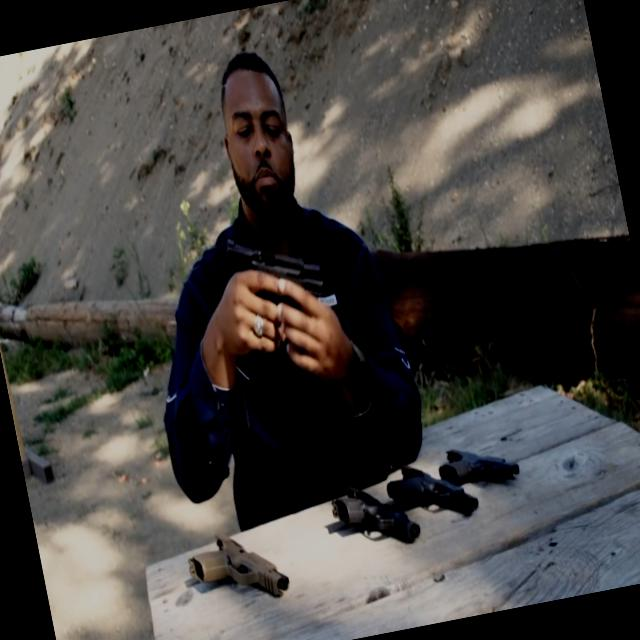handgun: (204, 209, 344, 368), (371, 426, 505, 554), (163, 520, 304, 622), (423, 413, 539, 503), (328, 460, 427, 562)
